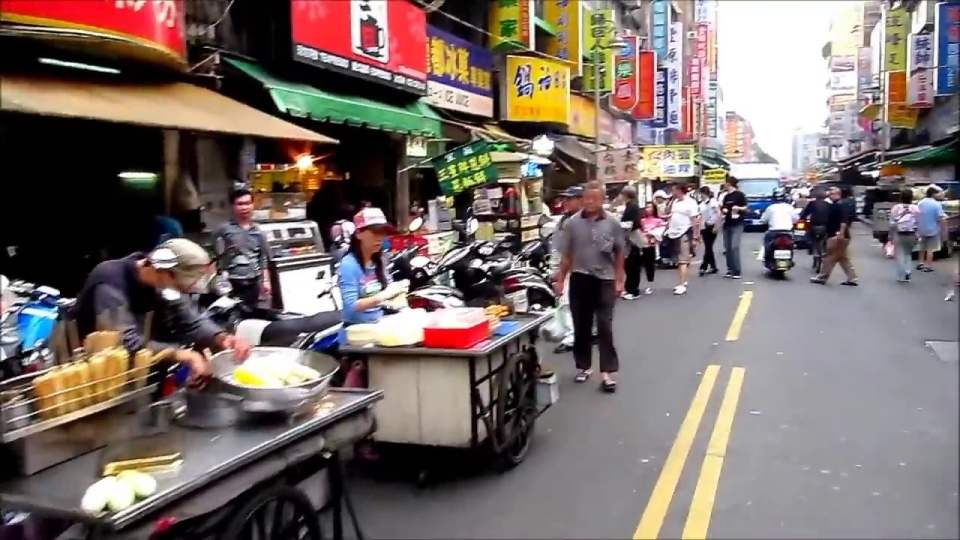person_head: (132, 238, 210, 300), (348, 206, 391, 258), (570, 182, 609, 219), (222, 188, 258, 224), (667, 175, 690, 207), (693, 177, 715, 205), (558, 185, 580, 212), (810, 182, 831, 204), (722, 171, 742, 194), (618, 185, 639, 204), (642, 199, 660, 219), (769, 188, 790, 204), (828, 183, 842, 205), (900, 188, 915, 205), (924, 186, 939, 199)
person_vbox: (81, 238, 249, 381), (564, 179, 633, 393), (333, 206, 410, 328), (206, 188, 269, 315), (544, 183, 588, 353), (810, 181, 858, 288), (606, 174, 645, 303), (663, 183, 696, 299), (888, 187, 925, 280), (759, 177, 797, 267), (636, 182, 664, 299), (798, 179, 830, 270), (723, 175, 750, 279), (917, 183, 946, 273), (697, 184, 725, 277)
